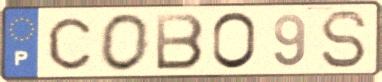9: (271, 12, 307, 69)
B: (154, 12, 207, 72)
C: (45, 15, 94, 72)
O: (97, 12, 152, 74), (210, 10, 259, 72)
S: (318, 8, 370, 71)
